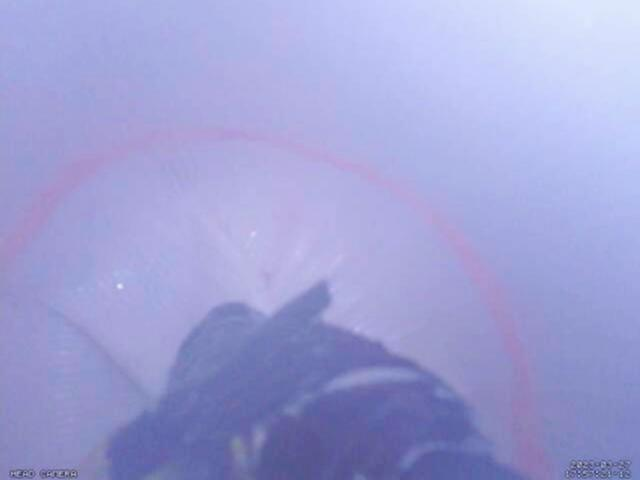head: (0, 125, 550, 480)
